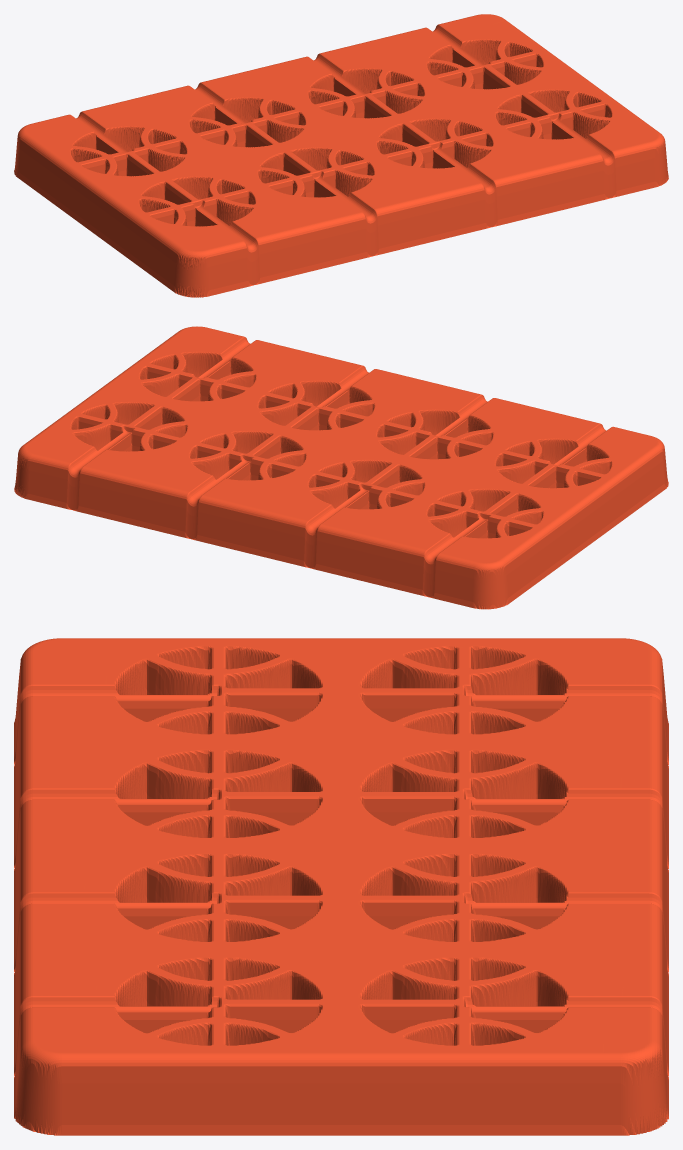
File: mold.glb
3 views of the same model, one above another, from view 1: azimuth 30°, elevation 25°; view 2: azimuth 150°, elevation 25°; view 3: azimuth 270°, elevation 25° (orthographic). The views are drawn at different scales.
Visible parts, largest first — view 1: geometry_0; view 2: geometry_0; view 3: geometry_0.
Part boxes in pixels (left/top/right/bottom): geometry_0: left=14, top=14, right=668, bottom=297; geometry_0: left=14, top=326, right=668, bottom=609; geometry_0: left=14, top=638, right=668, bottom=1135.
Bounding box in the file's own units: 0.1907 × 0.0155 × 0.1229.
